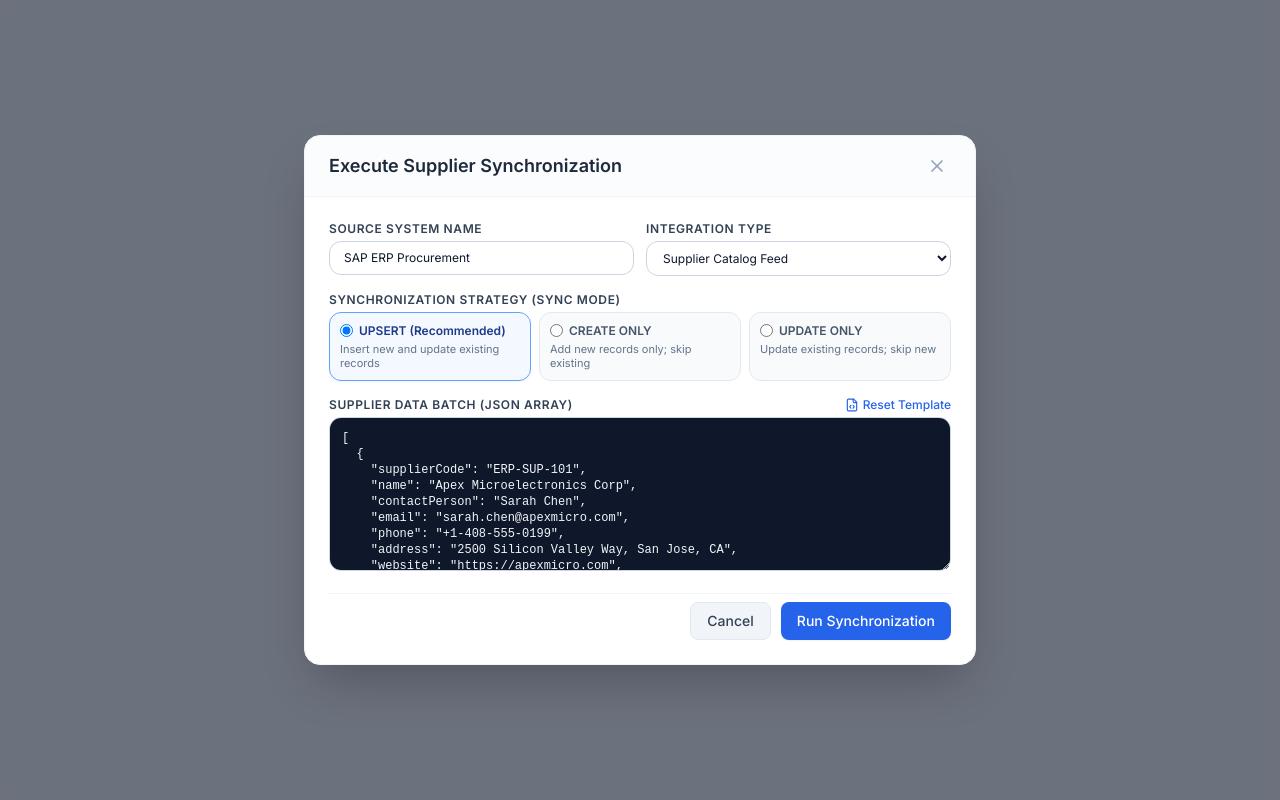
Test: Phase 16 — Enterprise Integrations Frontend Suite › INT-FE-07: SupplierSyncModal loads template and submits sync payload
Expected: the heading "Execute Supplier Synchronization" is shown, x1=329 y1=152 x2=622 y2=180
Step 1. Click the button "Run Synchronization" → (866, 621), box x1=781 y1=602 x2=951 y2=640
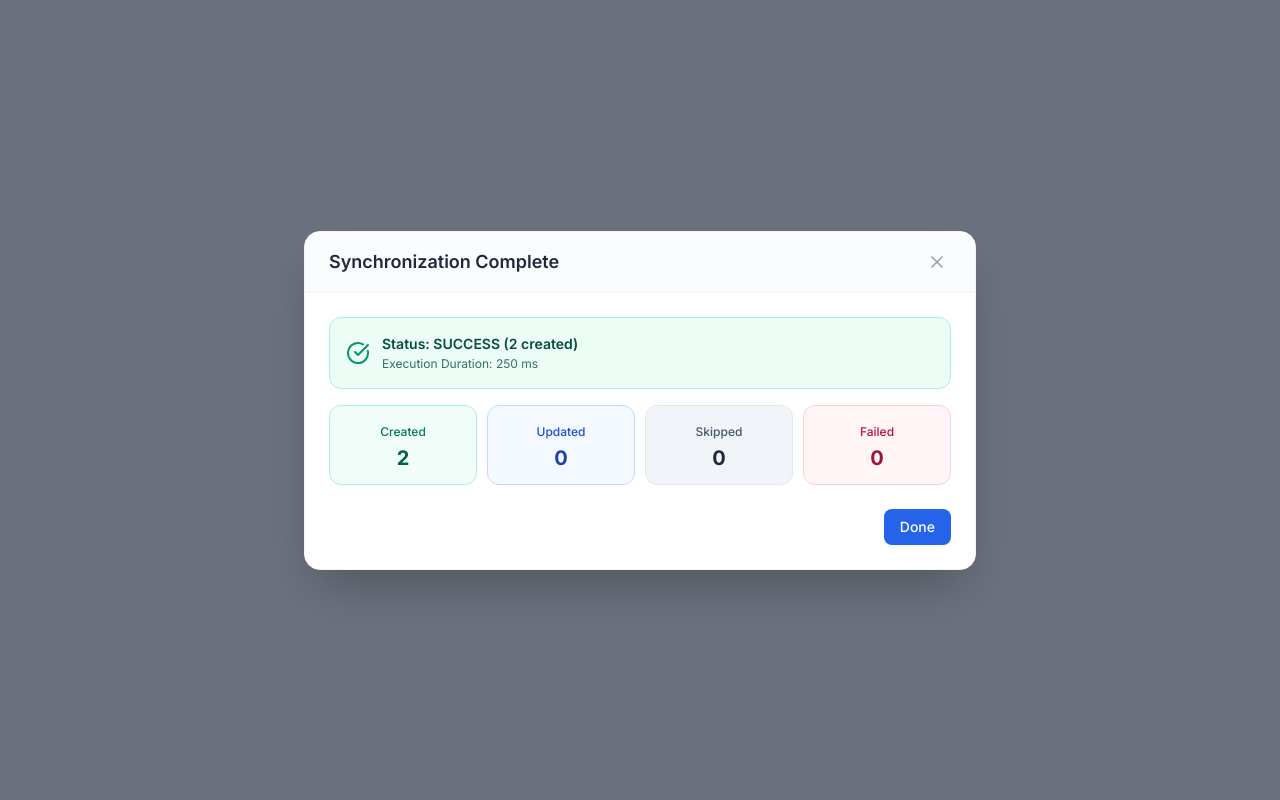
Now the heading "Synchronization Complete" is shown, box x1=329 y1=248 x2=559 y2=276
